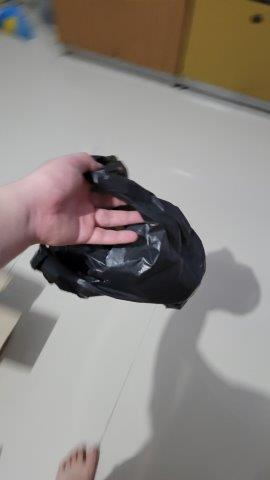plastik: (27, 151, 214, 317)
